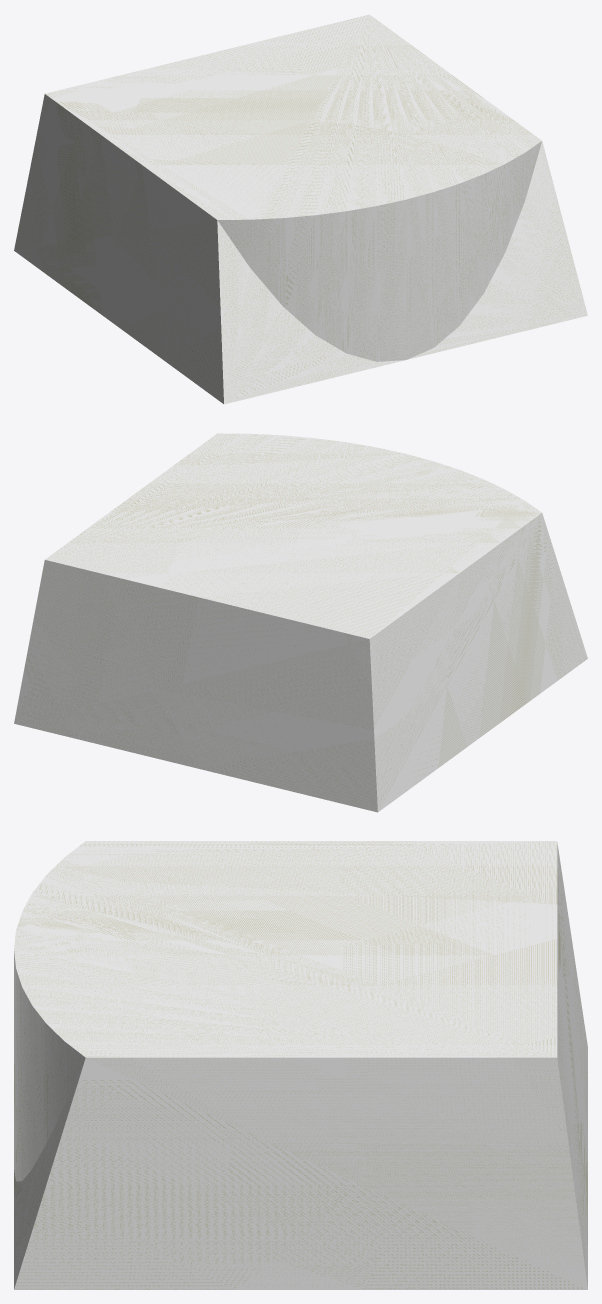
The model's file is original-66.obj.
3 views of the same model, one above another, from view 1: azimuth 30°, elevation 25°; view 2: azimuth 150°, elevation 25°; view 3: azimuth 270°, elevation 25° (orthographic). The views are drawn at different scales.
Visible parts, largest first — view 1: Gray_Single_Keycap61/Gray_Single_Keycap/mesh8/mesh8-geometry#mes; view 2: Gray_Single_Keycap61/Gray_Single_Keycap/mesh8/mesh8-geometry#mes; view 3: Gray_Single_Keycap61/Gray_Single_Keycap/mesh8/mesh8-geometry#mes.
Boxes of the visible parts, x1,y1,x2,y2 form: Gray_Single_Keycap61/Gray_Single_Keycap/mesh8/mesh8-geometry#mes: (14,14,587,404); Gray_Single_Keycap61/Gray_Single_Keycap/mesh8/mesh8-geometry#mes: (14,433,587,812); Gray_Single_Keycap61/Gray_Single_Keycap/mesh8/mesh8-geometry#mes: (14,841,587,1289).
Bounding box in the file's own units: 0.0973 × 0.041 × 0.0973.
